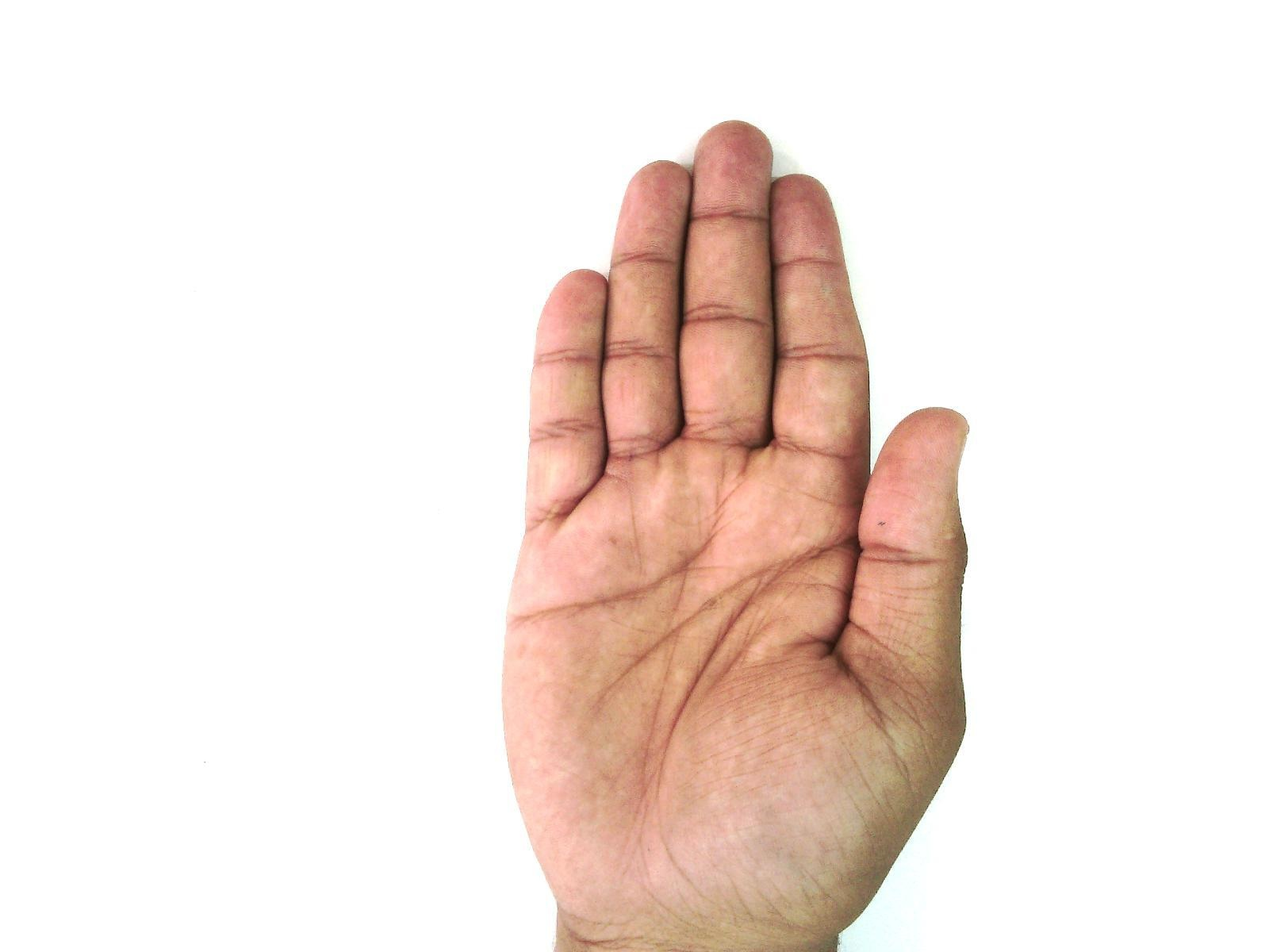open_palm: (498, 119, 974, 950)
